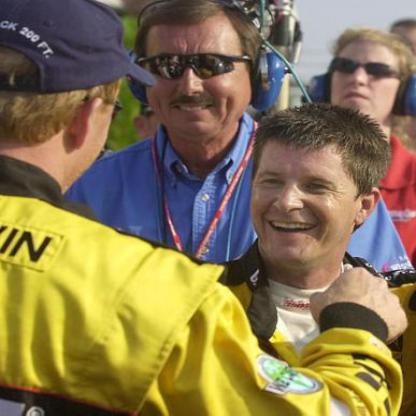face: (243, 108, 364, 268), (139, 1, 253, 140), (329, 31, 403, 124)
